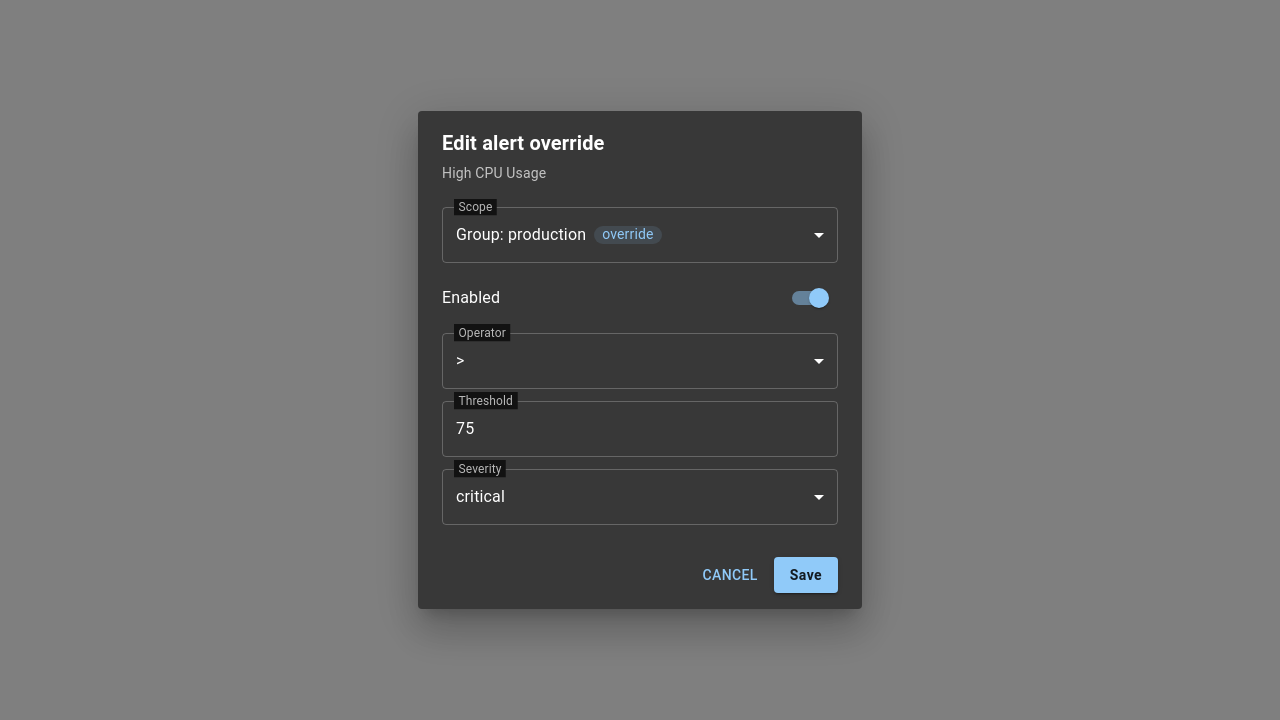
AlertOverrideEditDialog › shows info alert when no override at selected scope
Expected: the text "High CPU Usage" is shown, [442,165,546,181]
Press the mouse on the dropdown labelled "Group: production override" at {"x": 559, "y": 235}, box [456,225,662,244]
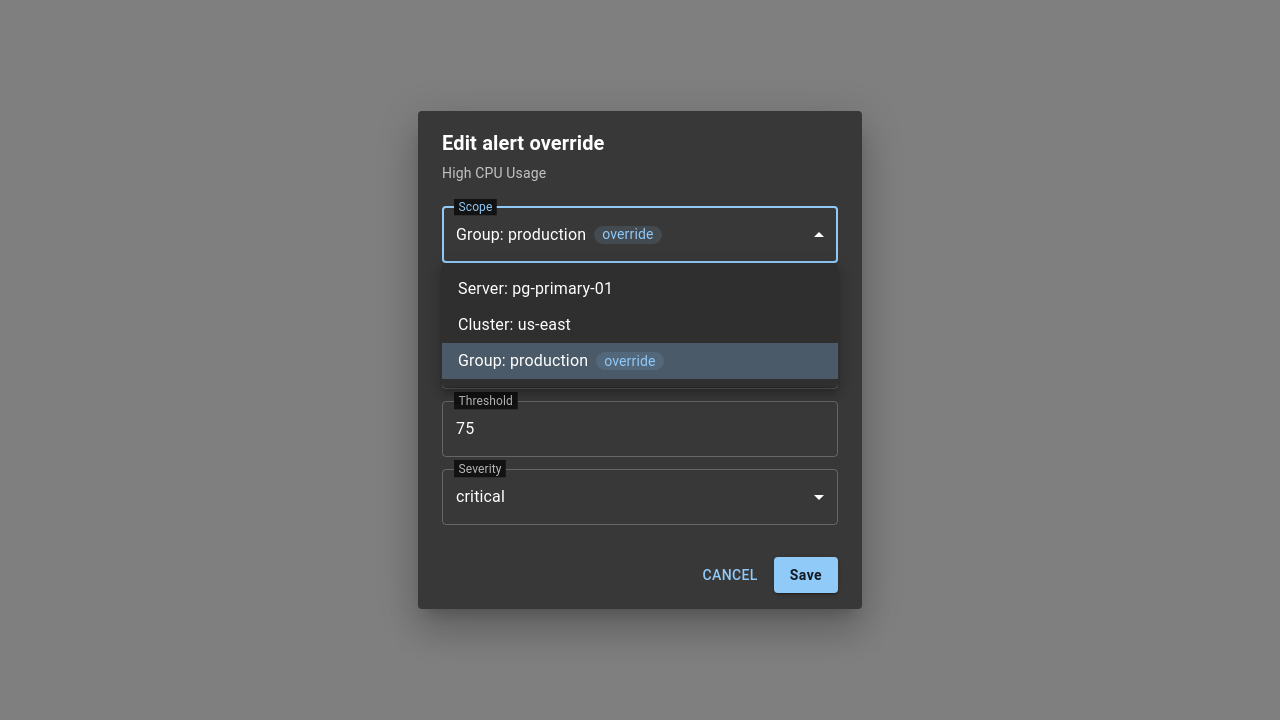
Now the list is shown, box [442,263,838,387]
Click the option "Server: pg-primary-01" at {"x": 536, "y": 288}, box [458,279,613,298]
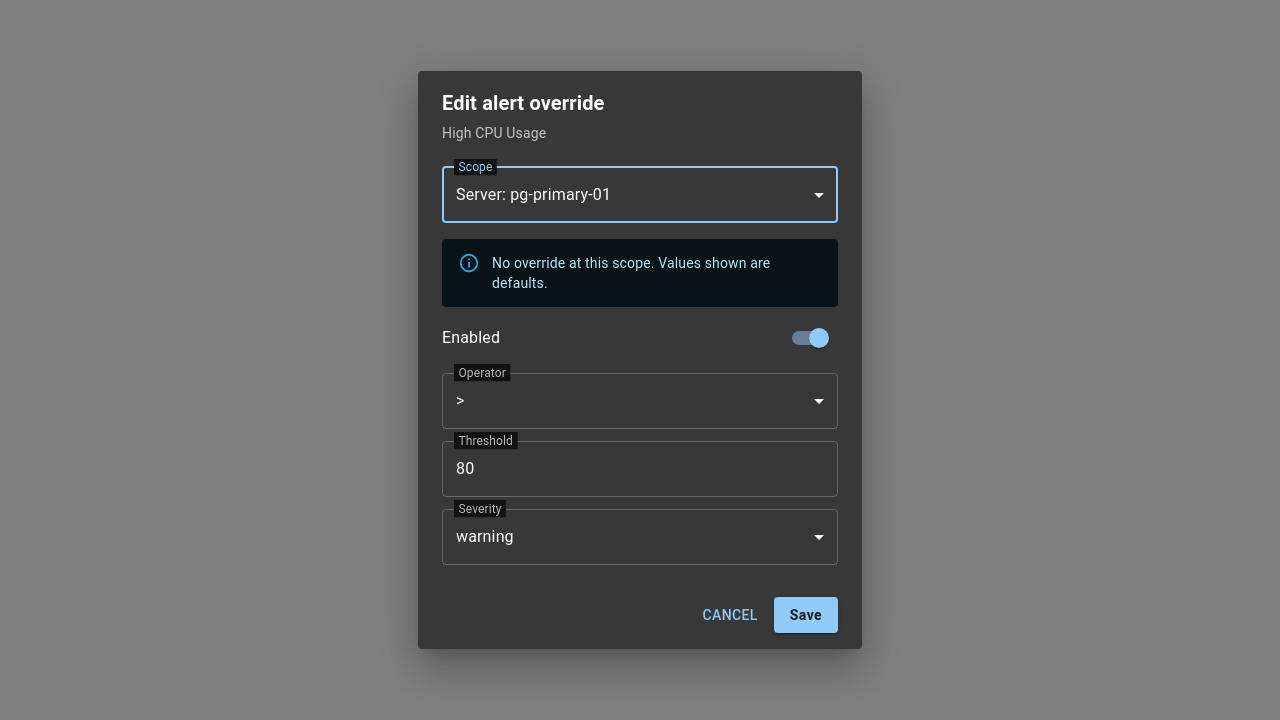
Now the text "No override at this scope. Values shown are defaults." is shown, box [492,255,770,291]
